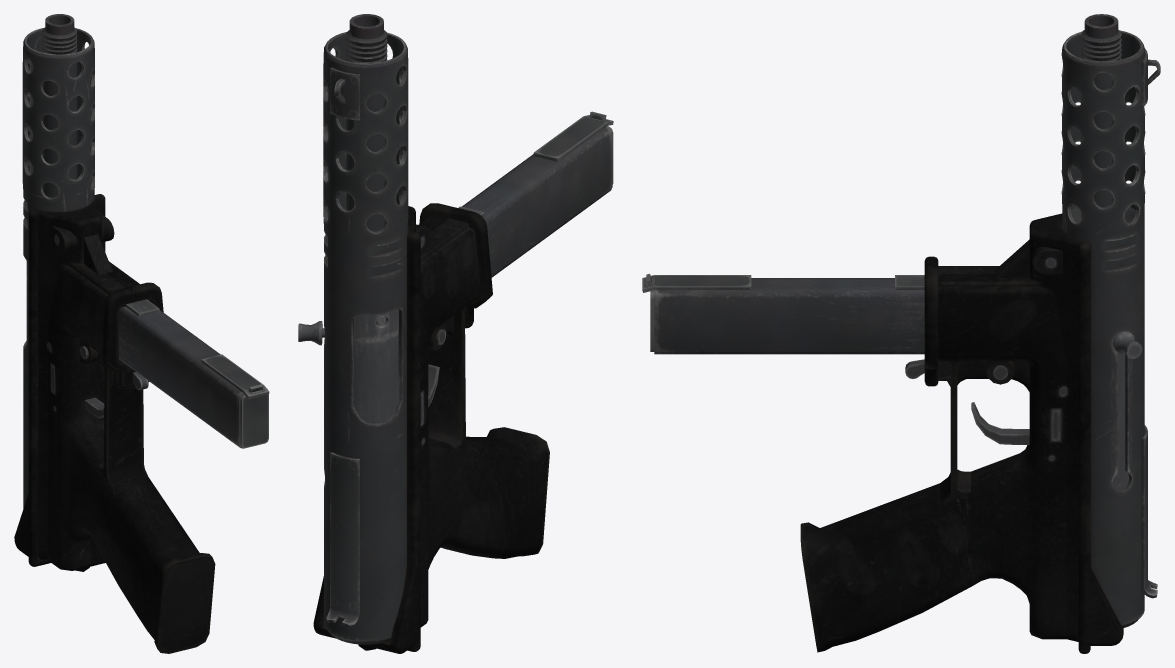
The model's file is tec9.glb.
3 renders of one model, left to right at view 1: azimuth 30°, elevation 25°; view 2: azimuth 150°, elevation 25°; view 3: azimuth 270°, elevation 25°, orthographic. The views are drawn at different scales.
Parts seen in each view (by area): view 1: body_main body_0, mag_main body_0; view 2: body_main body_0, mag_main body_0, injector_main body_0; view 3: body_main body_0, mag_main body_0, injector_main body_0, trigger_main body_0.
Boxes of the visible parts, box(x1,y1,x2,y2) form: body_main body_0: box(14, 14, 215, 653); mag_main body_0: box(119, 299, 269, 448); body_main body_0: box(313, 14, 549, 653); mag_main body_0: box(458, 111, 613, 277); injector_main body_0: box(298, 309, 398, 423); body_main body_0: box(800, 14, 1160, 653); mag_main body_0: box(642, 273, 924, 354); injector_main body_0: box(1112, 331, 1142, 490); trigger_main body_0: box(971, 402, 1029, 444).
Bounding box in the file's own units: 0.0359 × 0.22 × 0.1661.
Materials: 1 (1 with a texture image).
